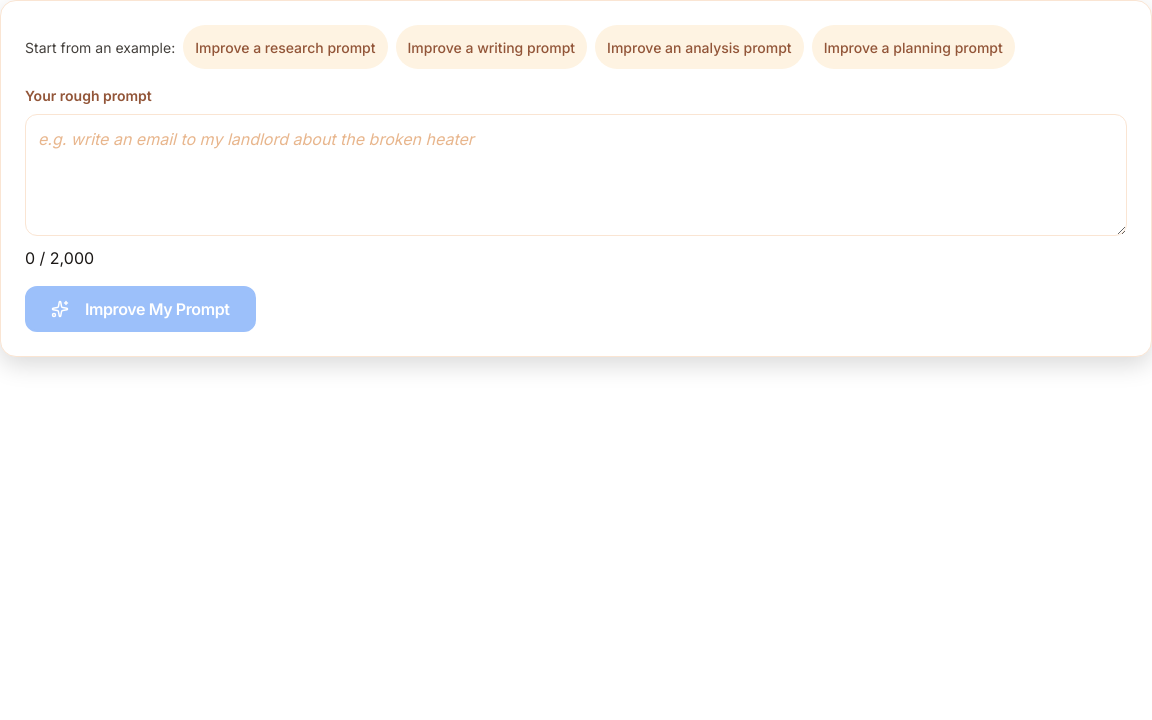
PromptImprover › submits input and renders the improved prompt
Type "make me a website" into the text box at (576, 175), box [25, 114, 1127, 236]
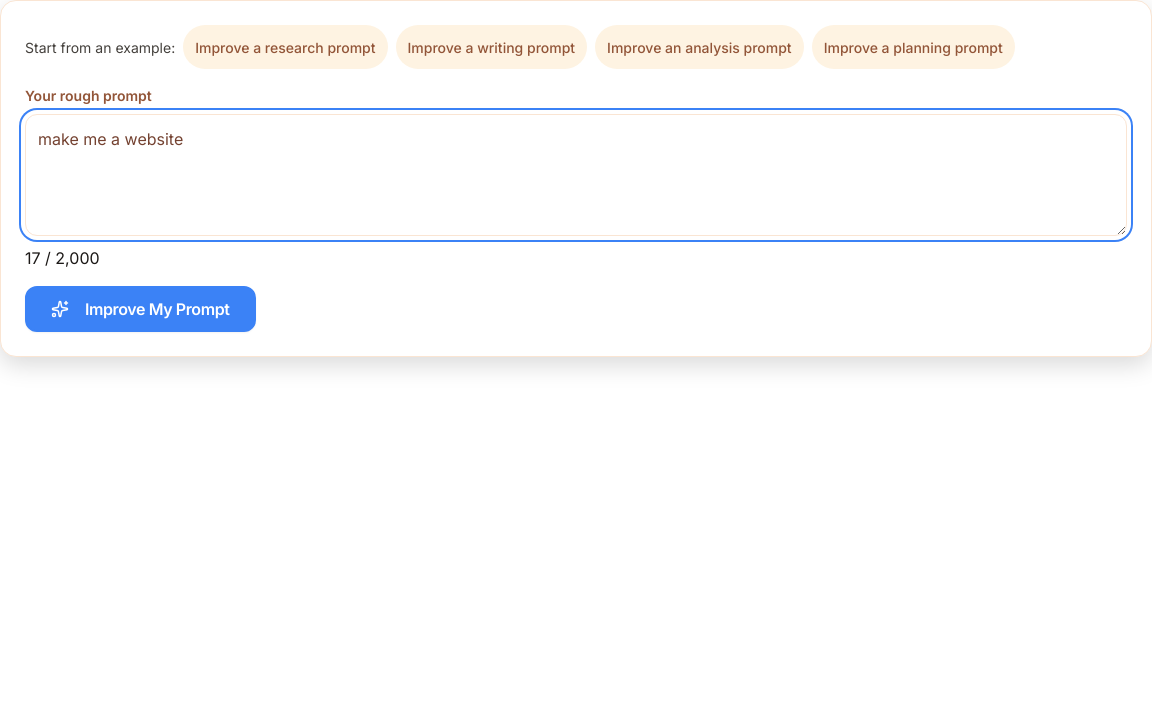
Click the button "Improve My Prompt" at (140, 309), box [25, 286, 256, 332]
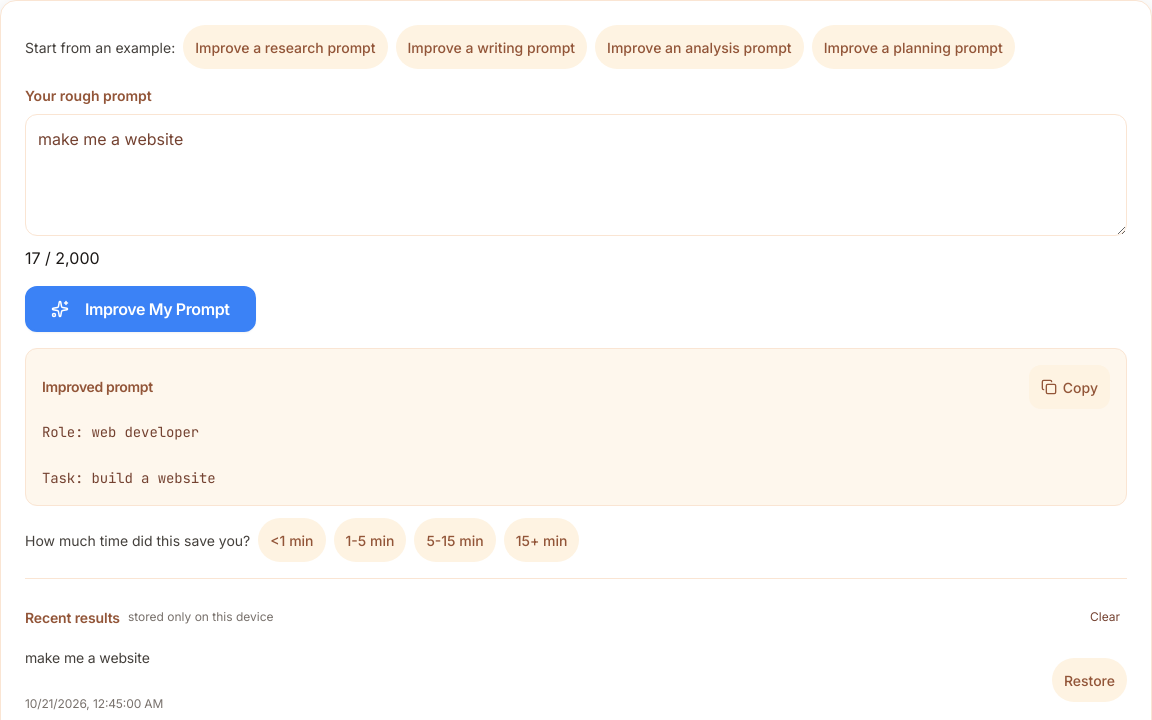
Result: the text "Role: web developer Task: build a website" is shown at [42, 423, 216, 486]
